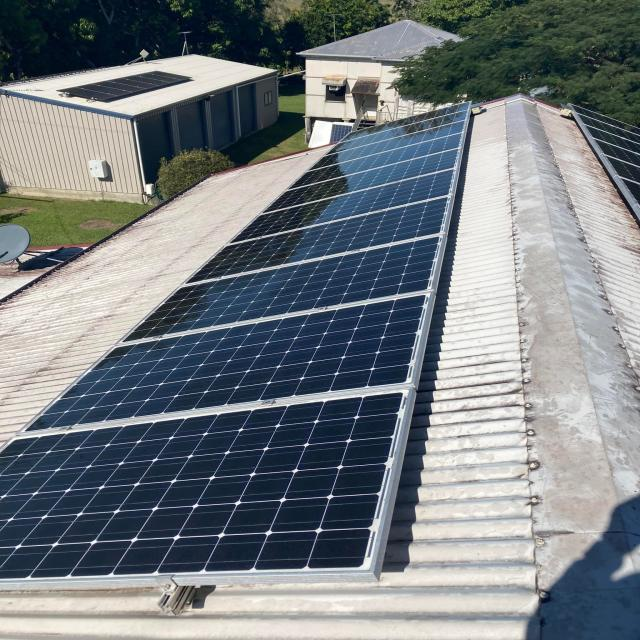clean-solar-panel: (2, 104, 470, 589)
